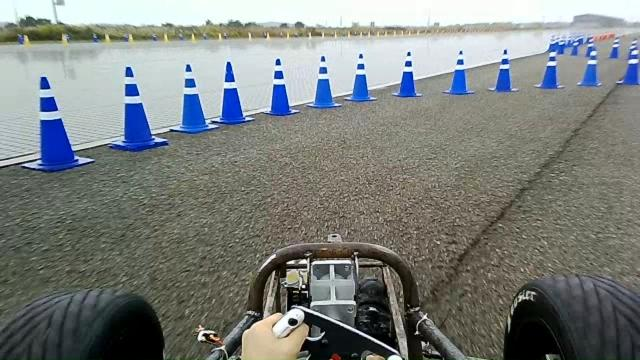blue cone: (20, 75, 95, 172), (108, 66, 168, 151), (169, 63, 219, 133), (210, 60, 255, 124), (263, 57, 300, 116), (306, 55, 342, 108), (344, 52, 377, 102), (442, 50, 474, 95), (392, 51, 422, 97), (488, 48, 518, 92), (534, 50, 564, 89), (576, 49, 602, 87), (617, 48, 640, 86)
